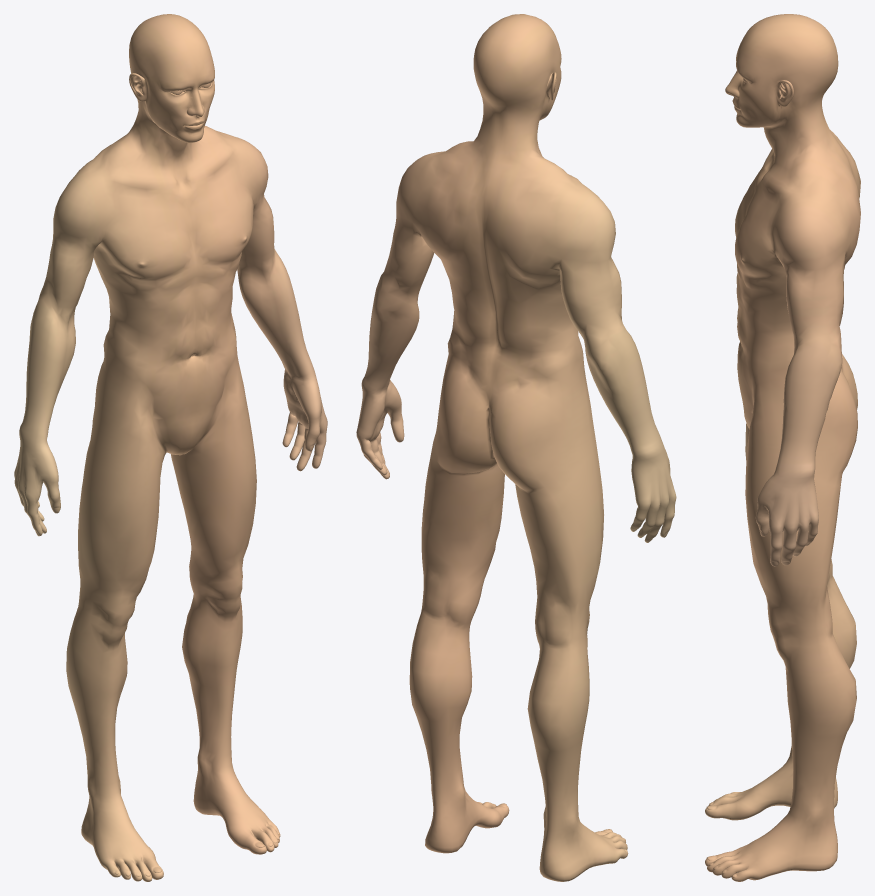
Rendered from player.glb.
3 views of the same model, side by side, from view 1: azimuth 30°, elevation 25°; view 2: azimuth 150°, elevation 25°; view 3: azimuth 270°, elevation 25° (orthographic). The views are drawn at different scales.
Visible parts, largest first — view 1: Human Anatomy; view 2: Human Anatomy; view 3: Human Anatomy.
Part boxes in pixels (x1,y1,x2,y2): Human Anatomy: (14, 14, 327, 881); Human Anatomy: (356, 14, 676, 881); Human Anatomy: (705, 14, 860, 881).
Size of the model in its own units: 3.43 by 8.91 by 1.53.
1 material, 1 textured.
